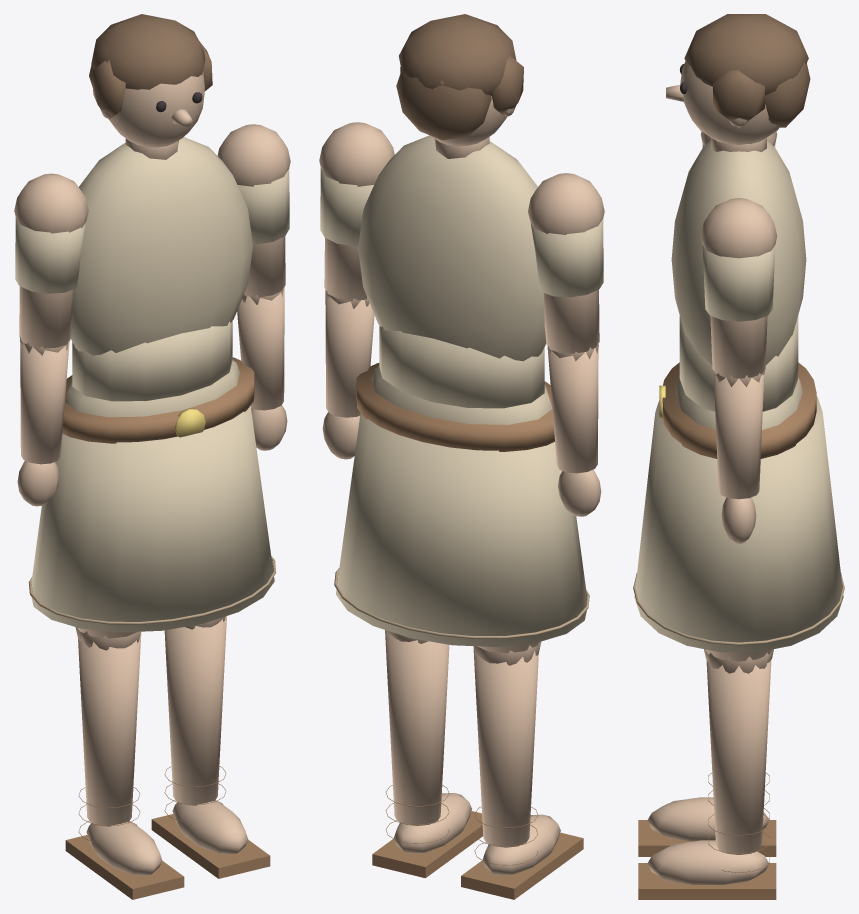
File: humano.glb
3 views of the same model, side by side, from view 1: azimuth 30°, elevation 25°; view 2: azimuth 150°, elevation 25°; view 3: azimuth 270°, elevation 25° (orthographic). The views are drawn at different scales.
Parts seen in each view (by area): view 1: pelvis, torso, shin_R, shin_L, head, arm_R, arm_L, forearm_R, forearm_L; view 2: pelvis, torso, shin_R, shin_L, head, arm_R, arm_L, forearm_R, forearm_L; view 3: pelvis, torso, shin_L, head, arm_L, forearm_L, shin_R, leg_L.
Boxes of the visible parts, x1,y1,x2,y2 form: pelvis: (28, 357, 276, 632); torso: (71, 137, 253, 401); shin_R: (65, 627, 184, 899); shin_L: (151, 616, 270, 878); head: (89, 14, 212, 159); arm_R: (14, 173, 88, 348); arm_L: (217, 124, 290, 297); forearm_R: (17, 337, 69, 506); forearm_L: (237, 287, 287, 450); pelvis: (334, 363, 589, 646); torso: (358, 135, 546, 408); shin_R: (461, 641, 583, 899); shin_L: (372, 630, 483, 878); head: (396, 14, 523, 158); arm_R: (528, 173, 604, 353); arm_L: (319, 122, 394, 300); forearm_R: (547, 341, 601, 516); forearm_L: (322, 290, 374, 459); pelvis: (633, 362, 844, 652); torso: (671, 139, 806, 411); shin_L: (638, 649, 776, 899); head: (666, 14, 810, 152); arm_L: (700, 198, 777, 378); forearm_L: (712, 369, 765, 543); shin_R: (638, 772, 776, 856); leg_L: (705, 649, 772, 661).
Bounding box in the file's own units: 0.62 × 1.83 × 0.4149.
